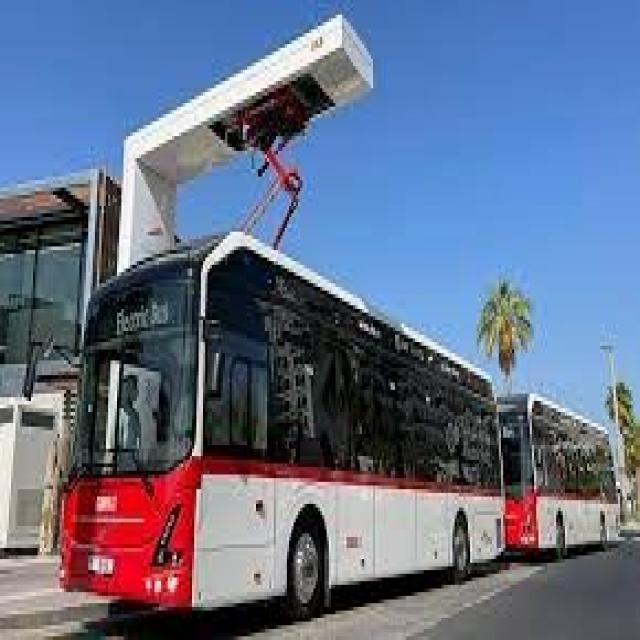bus: (57, 230, 511, 625)
